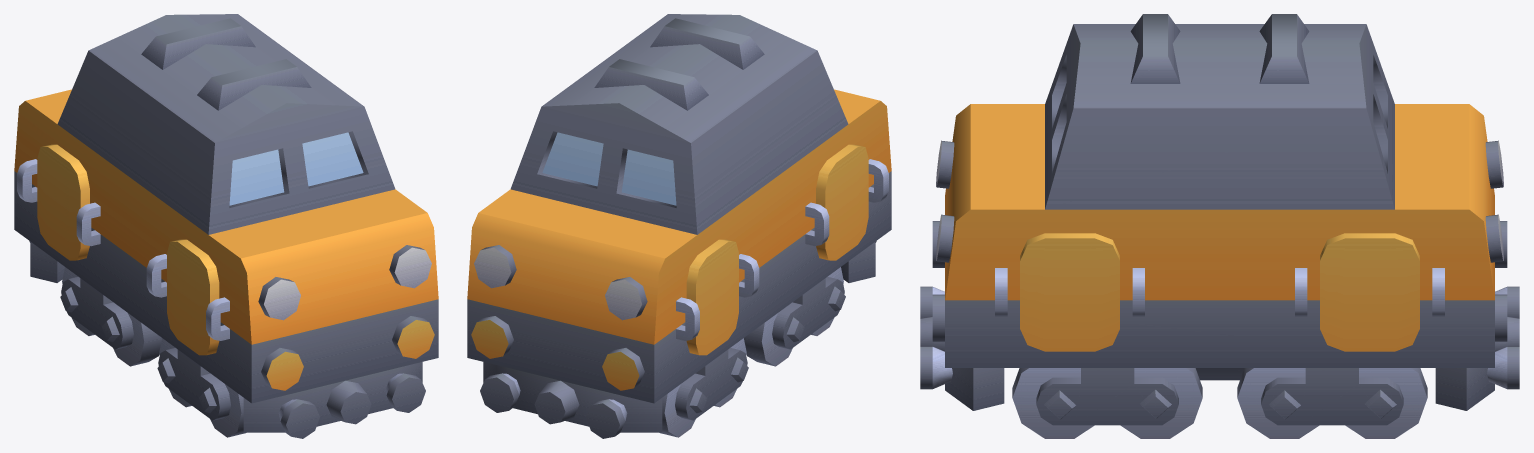
File: train-diesel-a.glb
The picture shows the model from 3 angles, left to right: view 1: azimuth 30°, elevation 25°; view 2: azimuth 150°, elevation 25°; view 3: azimuth 270°, elevation 25°; orthographic projection. The views are drawn at different scales.
Visible parts, largest first — view 1: train-diesel-a, wheels-back, wheels-front; view 2: train-diesel-a, wheels-front, wheels-back; view 3: train-diesel-a, wheels-front, wheels-back.
Part boxes in pixels (x1=…): train-diesel-a: x1=14, y1=14, x2=438, y2=438; wheels-back: x1=60, y1=267, x2=161, y2=366; wheels-front: x1=157, y1=338, x2=246, y2=437; train-diesel-a: x1=467, y1=14, x2=891, y2=438; wheels-front: x1=744, y1=267, x2=845, y2=366; wheels-back: x1=659, y1=338, x2=748, y2=437; train-diesel-a: x1=920, y1=14, x2=1519, y2=410; wheels-front: x1=1012, y1=368, x2=1202, y2=438; wheels-back: x1=1237, y1=368, x2=1427, y2=438.
Size of the model in its own units: 1.2 by 1.6 by 2.4.
1 material, 1 textured.
